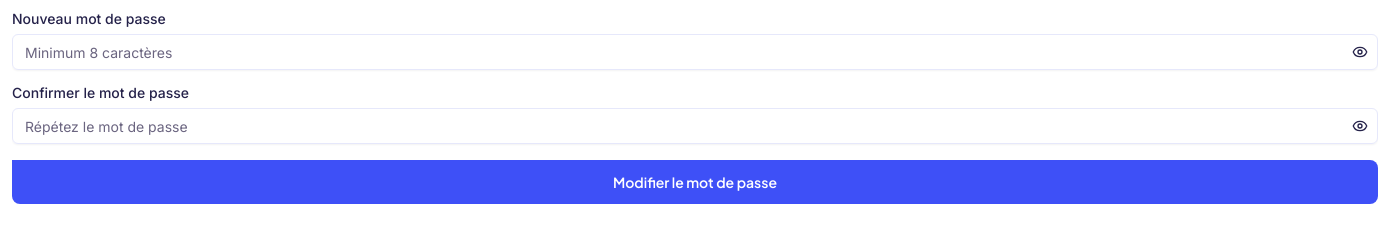
Test: ResetPasswordForm › validation › shows error for short password
Type "short" into the password field with placeholder "Minimum 8 caractères".
click(695, 52); type("short")  # box [12,34,1378,70]
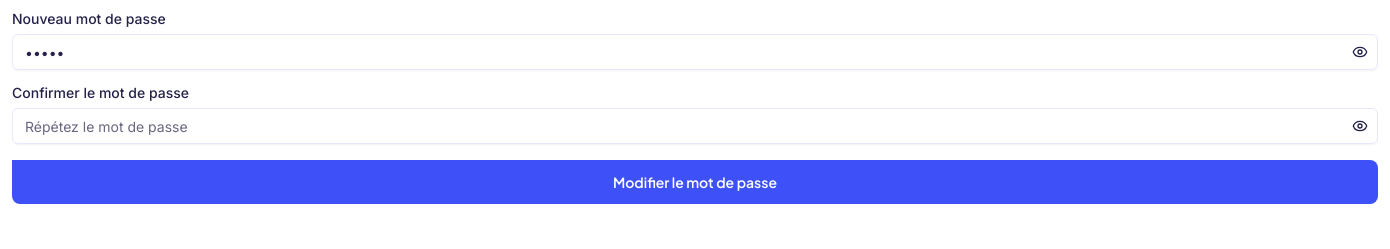
Type "short" into the password field with placeholder "Répétez le mot de passe".
click(695, 126); type("short")  # box [12,108,1378,144]
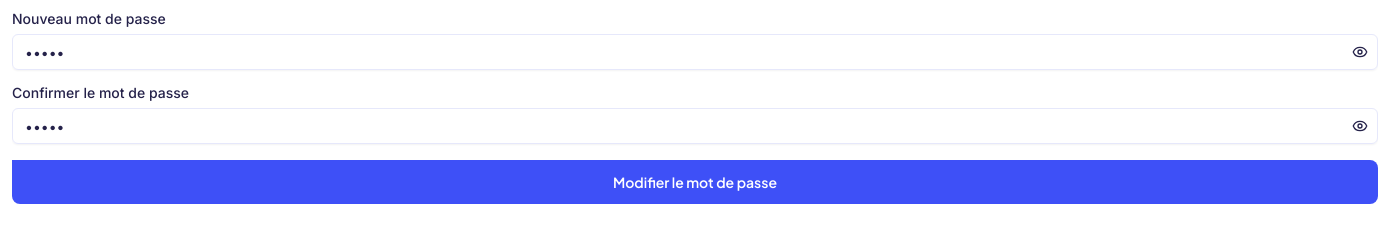
Click the button "Modifier le mot de passe".
click(695, 182)  # box [12,160,1378,204]
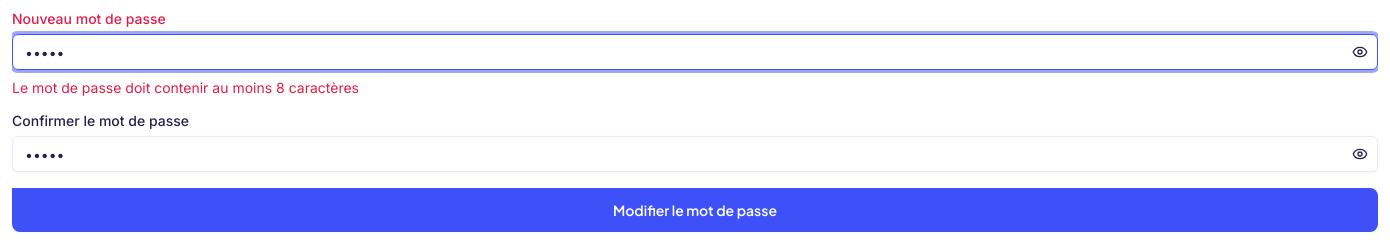
Expected: the text "Le mot de passe doit contenir au moins 8 caractères" is shown, [12,79,359,96]
